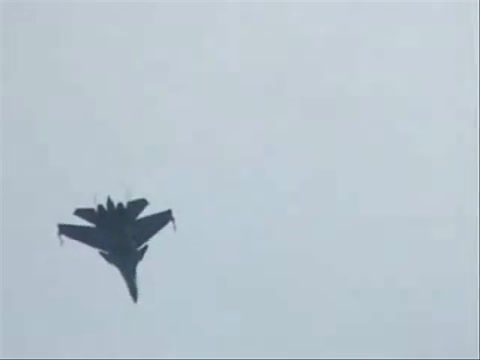aeroplane: (55, 195, 180, 306)
